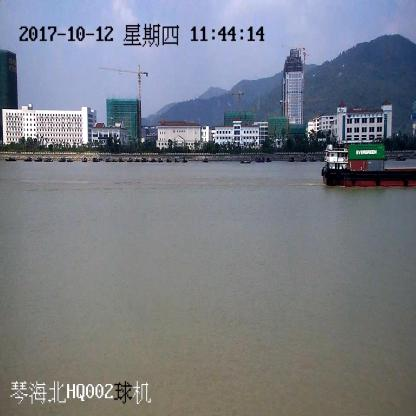Container Ship: (323, 146, 416, 186)
